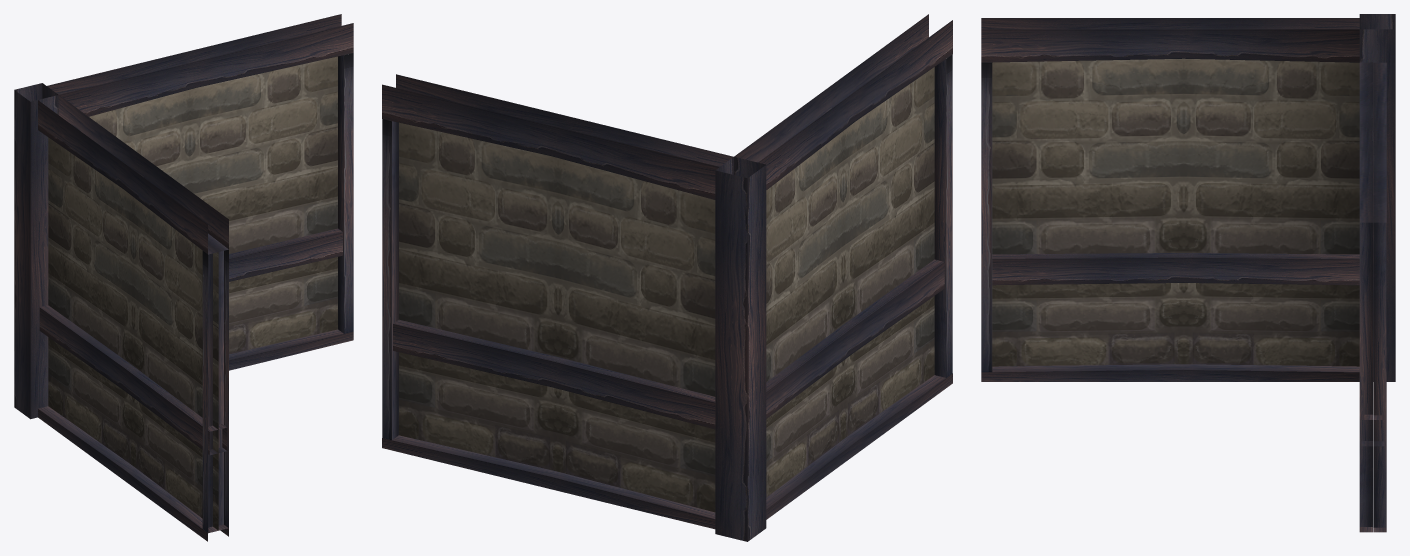
Rendered from WallCorner_2sided_detailed_2ndFloor_Bricks.fbx.
3 views of the same model, side by side, from view 1: azimuth 30°, elevation 25°; view 2: azimuth 150°, elevation 25°; view 3: azimuth 270°, elevation 25° (orthographic). The views are drawn at different scales.
Visible parts, largest first — view 1: WallCorner_2sided_detailed_2ndFloor_Bricks; view 2: WallCorner_2sided_detailed_2ndFloor_Bricks; view 3: WallCorner_2sided_detailed_2ndFloor_Bricks.
Part boxes in pixels (x1,y1,x2,y2): WallCorner_2sided_detailed_2ndFloor_Bricks: (14,14,353,541); WallCorner_2sided_detailed_2ndFloor_Bricks: (382,14,952,541); WallCorner_2sided_detailed_2ndFloor_Bricks: (981,14,1395,532).
Size of the model in its own units: 0.6867 by 0.6444 by 0.6863.
